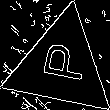P_W: (34, 43, 88, 89)
